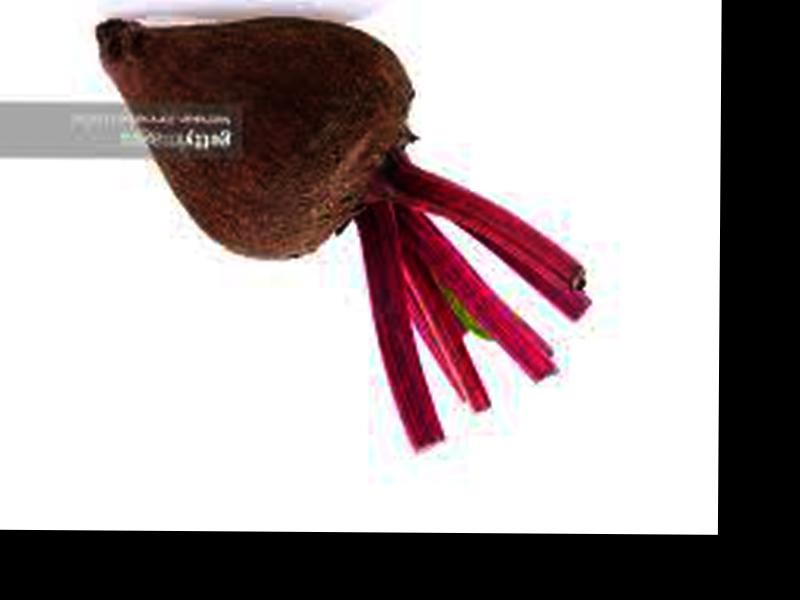Beet: (92, 18, 592, 451)
